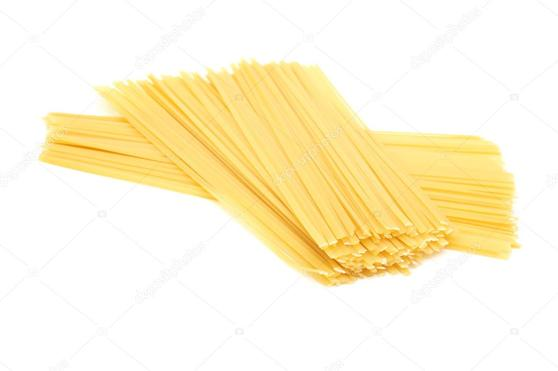spaghetti: (34, 52, 529, 287)
